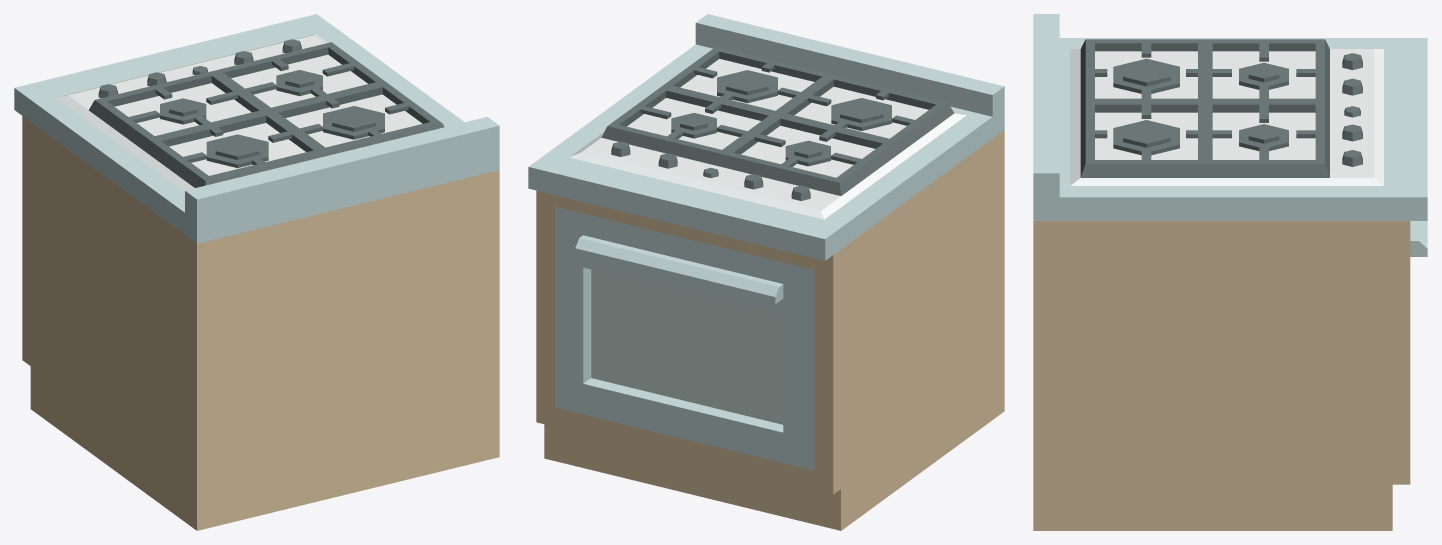
Rendered from kitchenStove.glb.
3 renders of one model, left to right at view 1: azimuth 30°, elevation 25°; view 2: azimuth 150°, elevation 25°; view 3: azimuth 270°, elevation 25°, orthographic. The views are drawn at different scales.
Parts seen in each view (by area): view 1: kitchenStove; view 2: kitchenStove, door 10; view 3: kitchenStove, door 10.
Boxes of the visible parts, box(x1,y1,x2,y2) form: kitchenStove: box(14, 14, 499, 530); kitchenStove: box(528, 14, 1004, 530); door 10: box(555, 206, 814, 470); kitchenStove: box(1033, 14, 1427, 530); door 10: box(1410, 221, 1427, 256).
Size of the model in its own units: 4.3 by 4.5 by 4.5.
